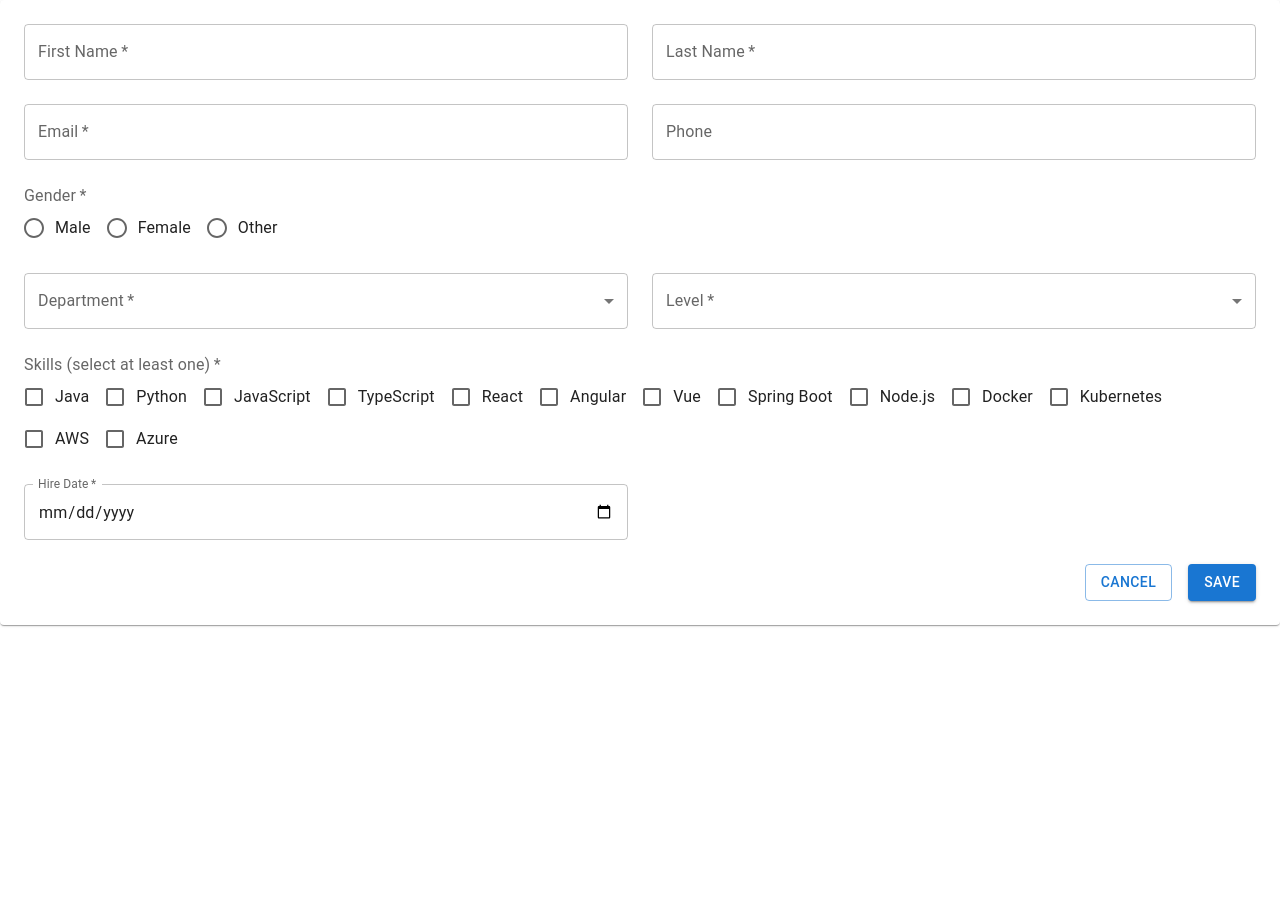
Test case: EmployeeForm - Property-Based Validation Tests › Property 10: UI validation provides feedback › should show validation error for invalid email formats
Note: Test with one invalid email
Type "notanemail" into the field labelled "Email *" at (326, 132), box [24,104,628,160]
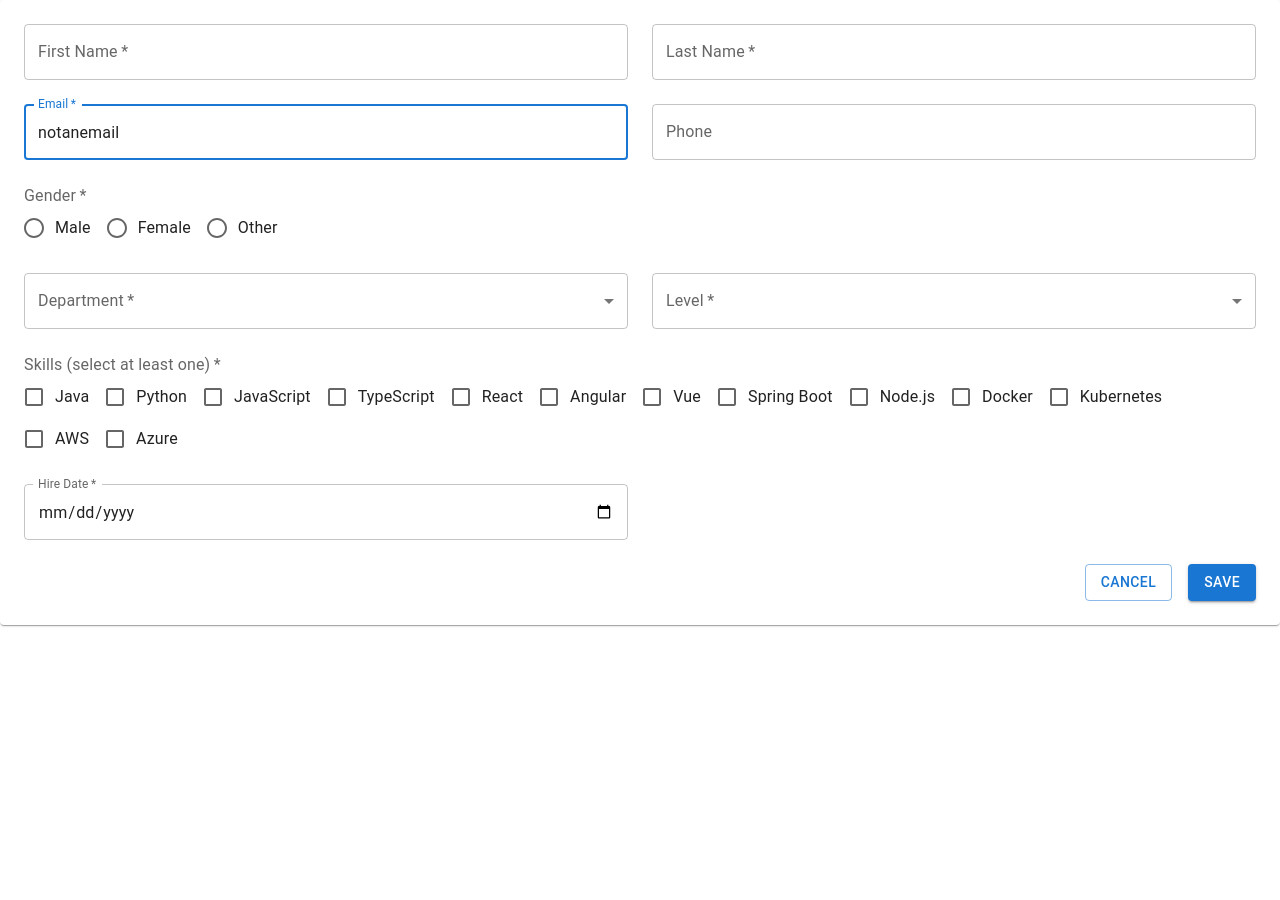
Press Tab
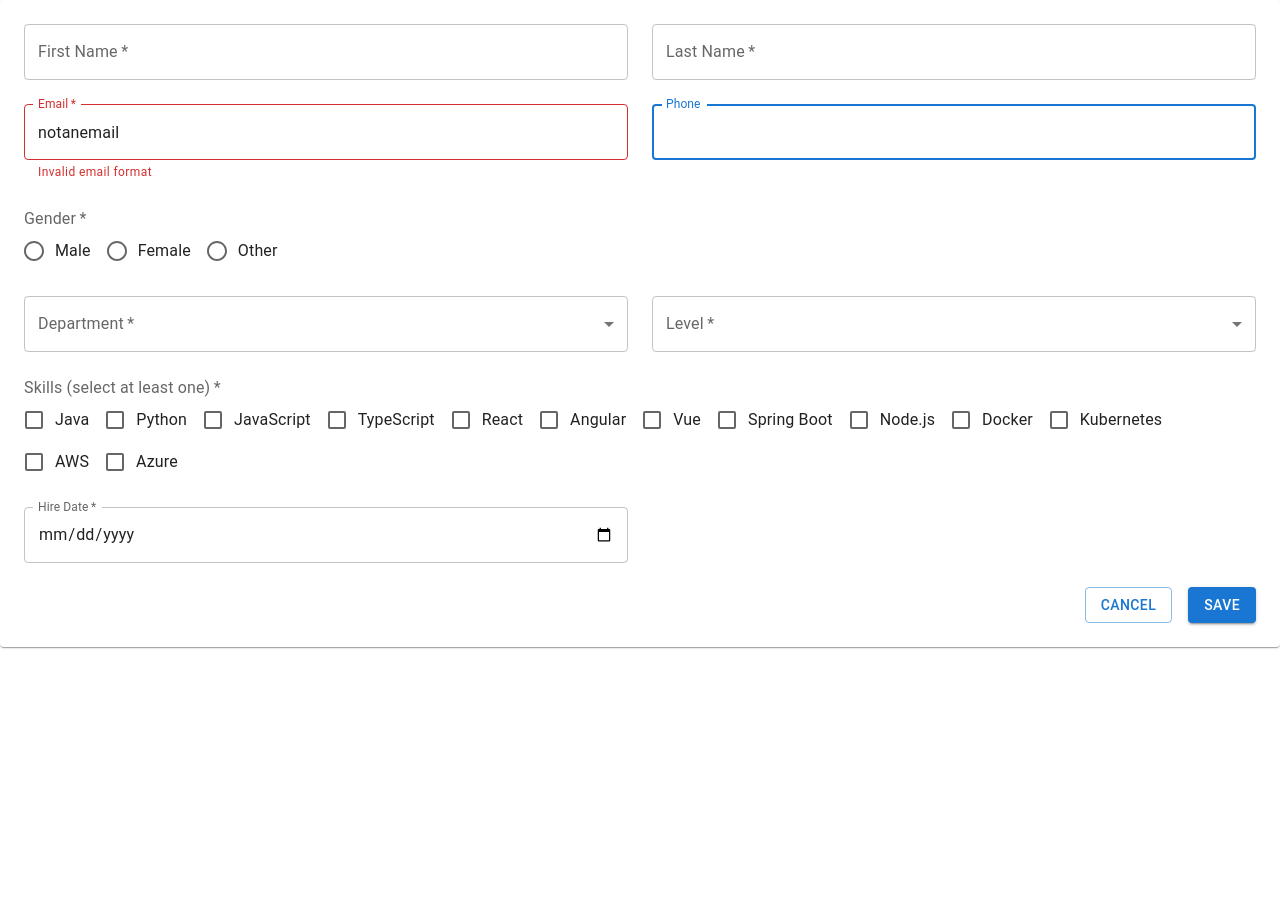
Now the text "Invalid email format" is shown, box [38,165,152,179]
